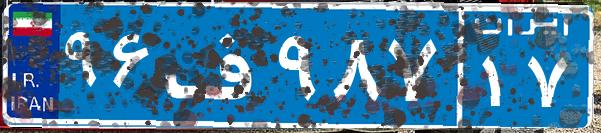1: (475, 38, 525, 113)
6: (110, 28, 158, 105)
7: (385, 28, 445, 110), (525, 38, 570, 115)
8: (330, 28, 385, 110)
9: (273, 28, 330, 110), (57, 26, 110, 107)
ف: (158, 15, 273, 115)
